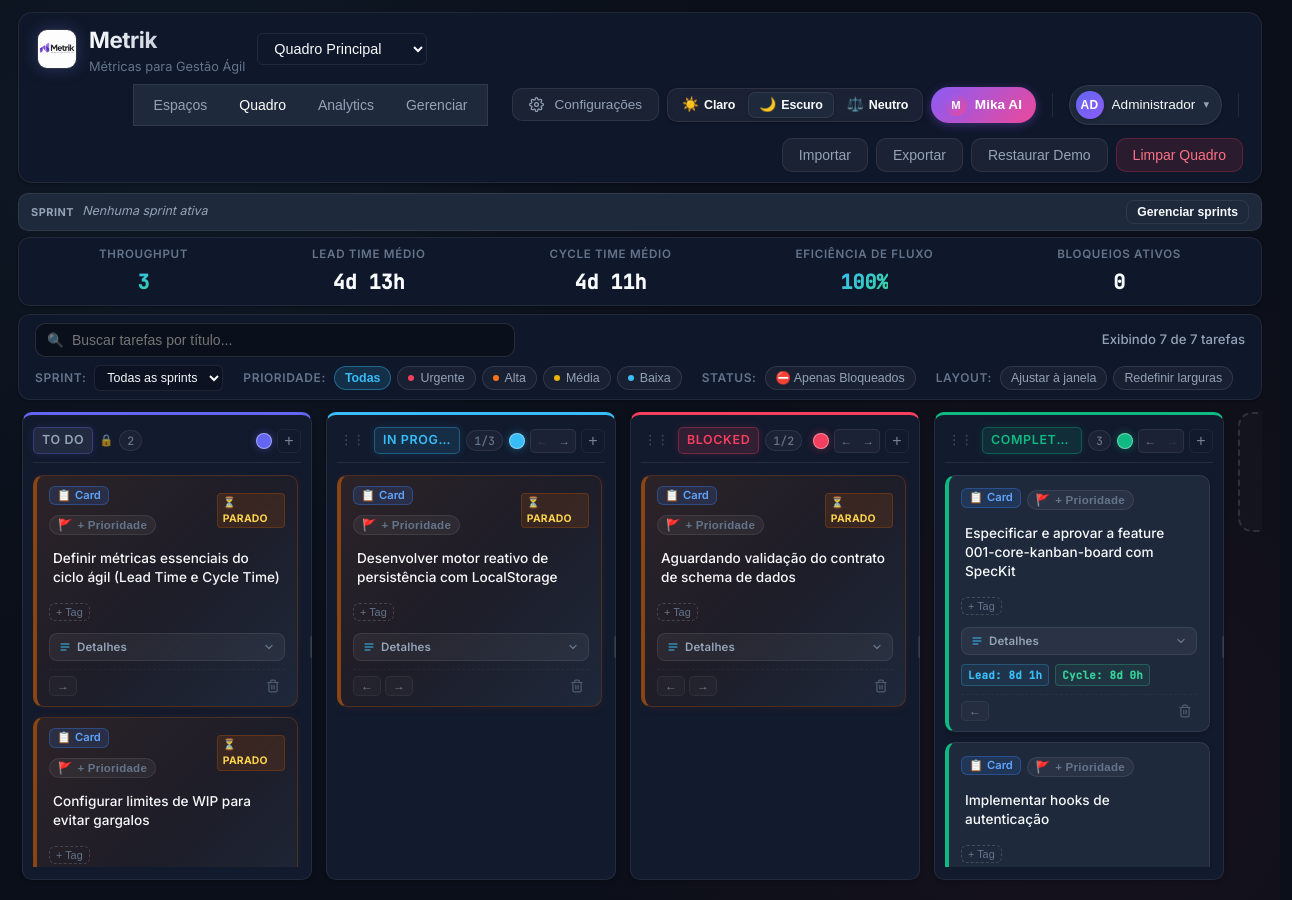
Test: Global Board Actions (US5) › allows restoring seed data via Reset Demo button
Click the button "Limpar Quadro" at coordinates (1179, 155), box 1116,138 -> 1243,172
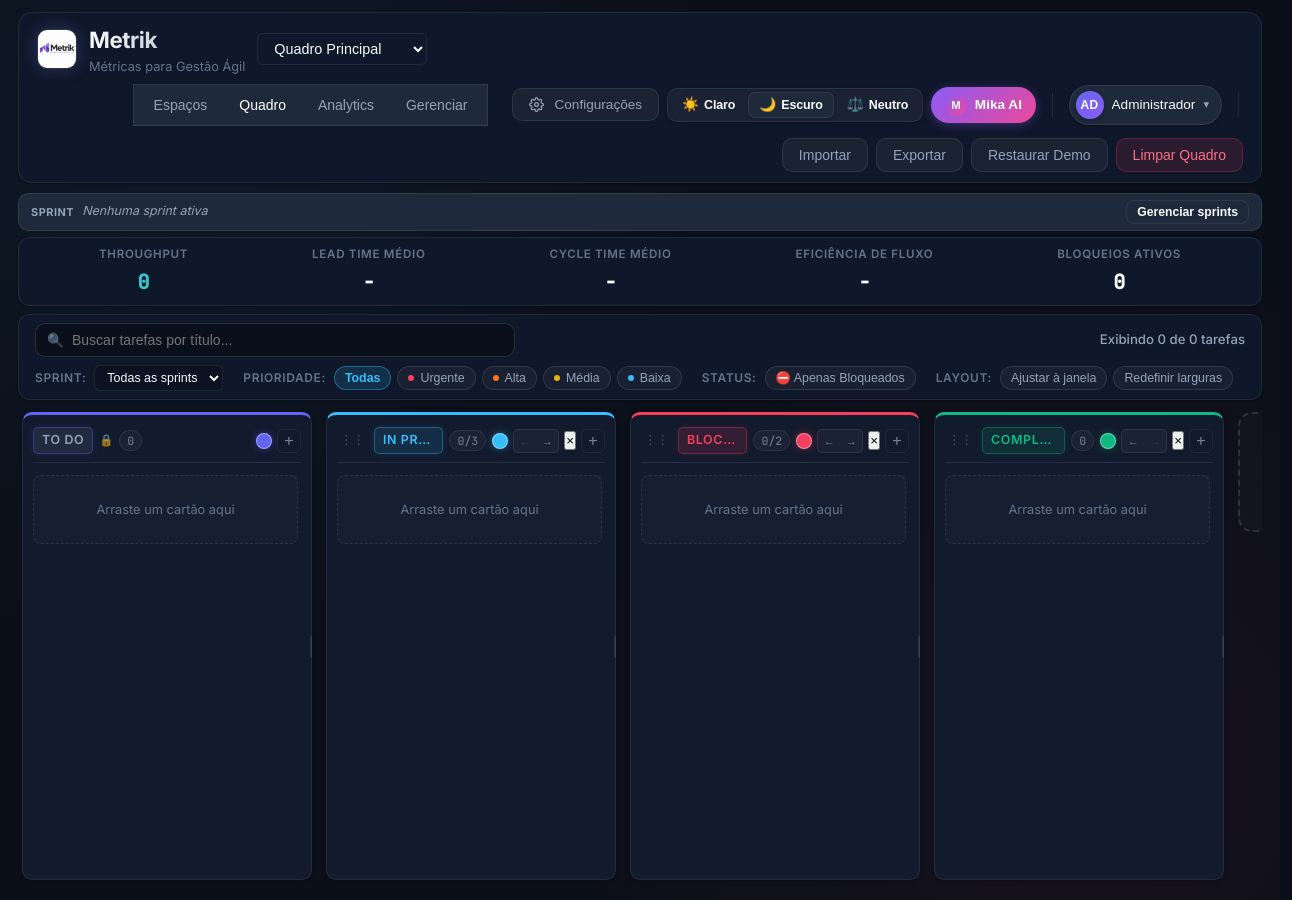
Click the button "Restaurar Demo" at coordinates (1039, 155), box 971,138 -> 1108,172
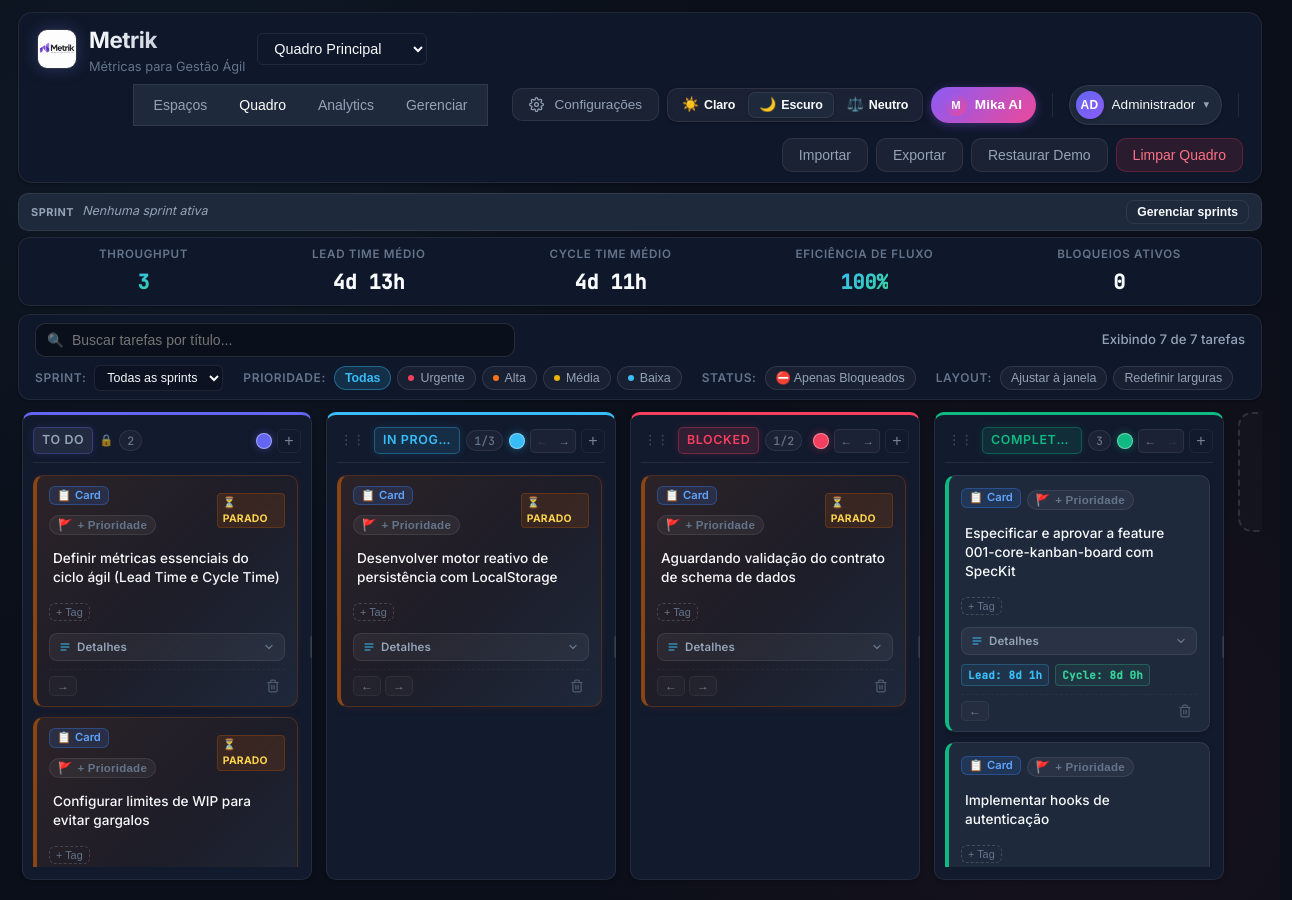
Check: the 2nd text box "Definir métricas essenciais do ciclo ágil (Lead Time e Cycle Time)" is shown, box 49,547 -> 285,589
